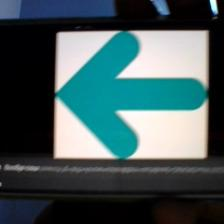left: (59, 33, 206, 158)
